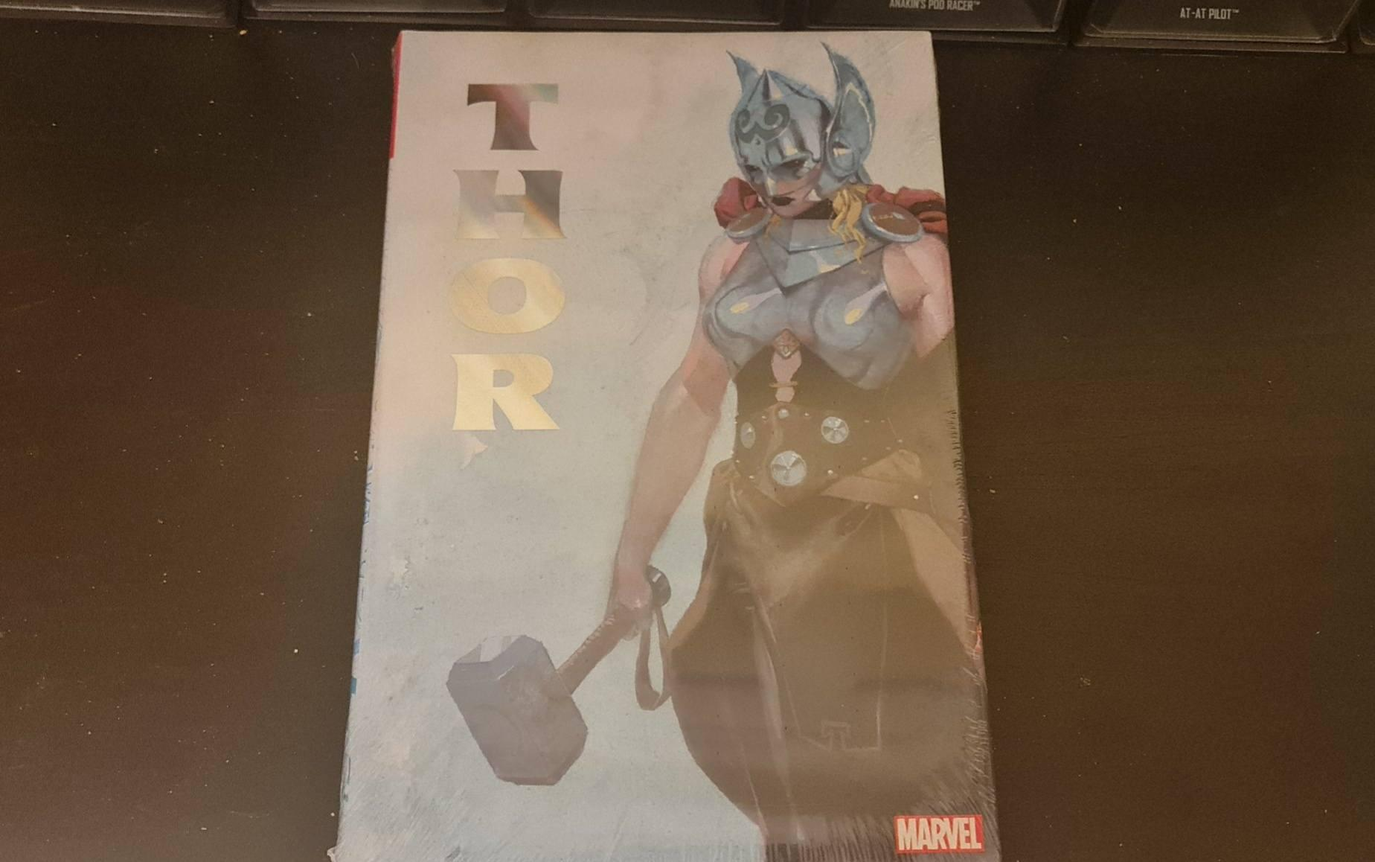comic: (333, 31, 998, 862)
